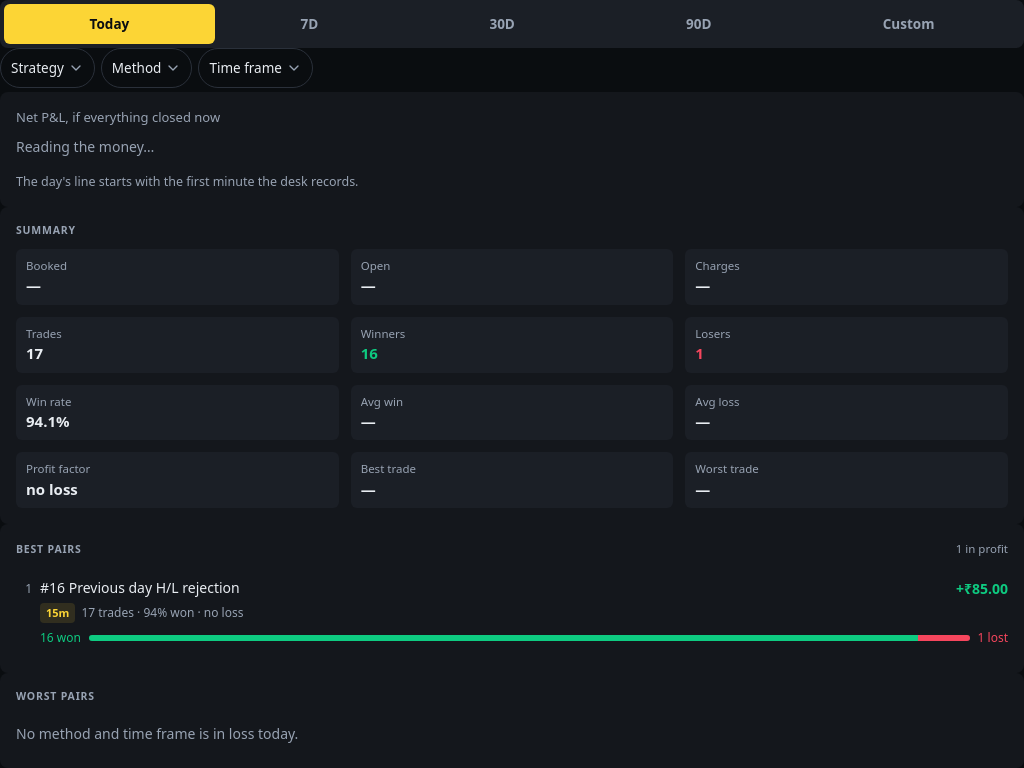
Test: PnlScreen: the strategy, method and timeframe filters › [critical] every strategy to begin with; the list says each one's trades and what it made
This screenshot has width=1024, height=768.
Step 1. Click the button with aria-label "Strategy filter:" → (47, 68), box [0, 48, 95, 88]
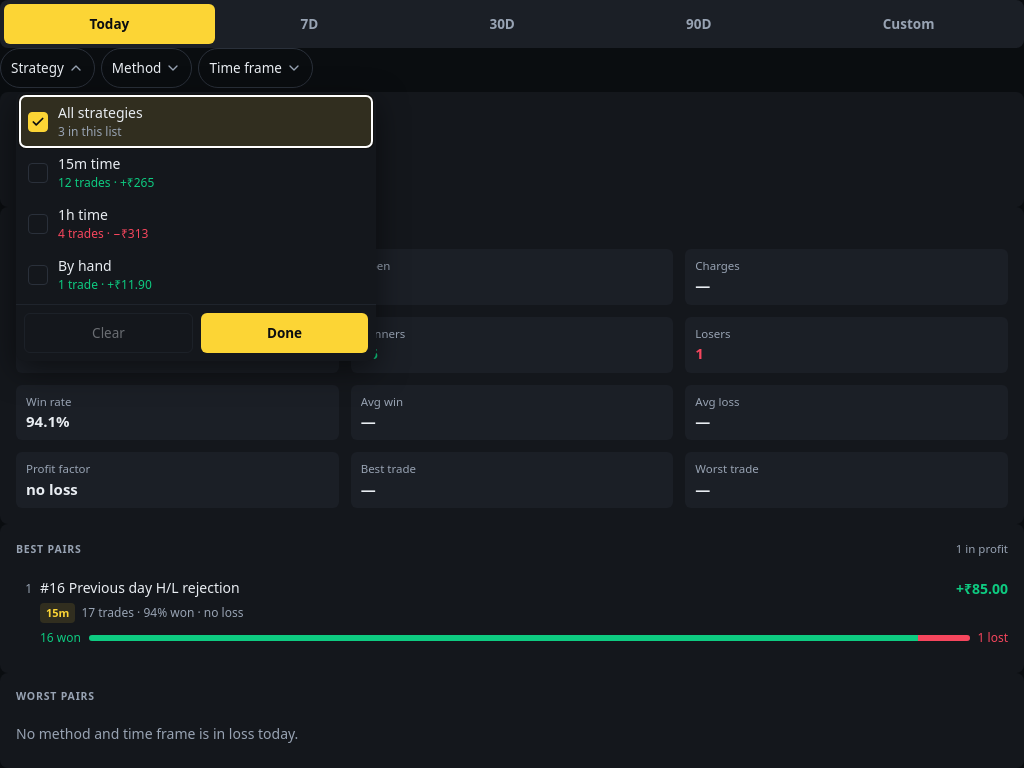
Now the number of options is 4, box [20, 96, 372, 147]; [20, 147, 372, 198]; [20, 198, 372, 249]; [20, 249, 372, 300]
